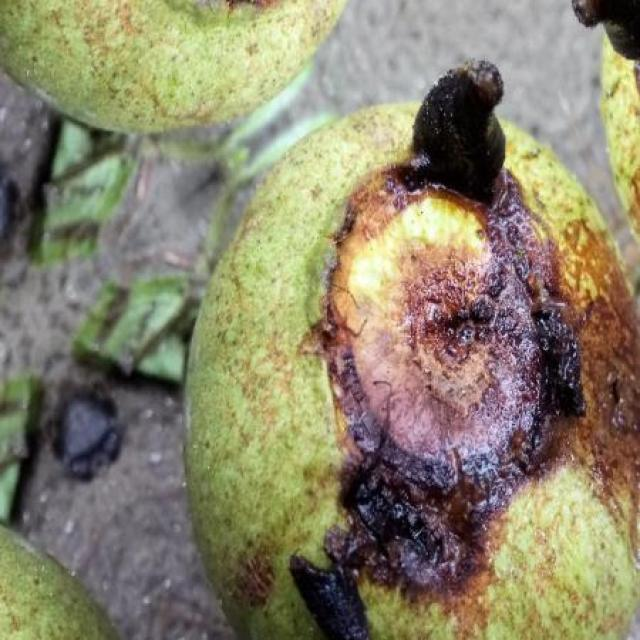Styler and Root: (188, 64, 640, 640), (0, 0, 344, 132)
